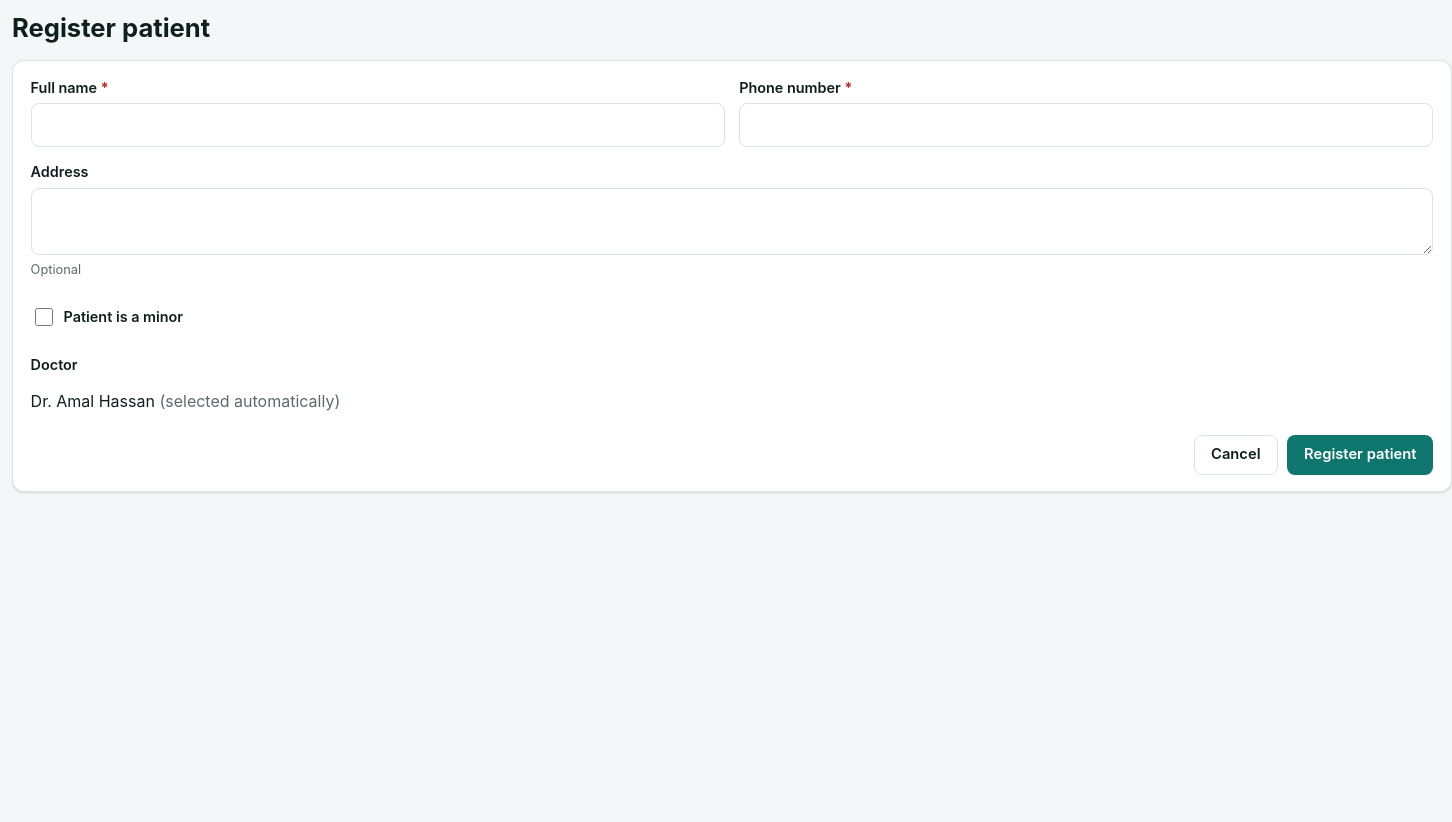
Test case: patient registration (PATIENT-001..003) › shows guardian fields only for a minor
Expected: the field labelled "Guardian name" is not shown
What coordinates should you click on to do the following:
click the checkbox labelled "Patient is a minor"
I would click on:
 (44, 317)
Its box is [35,297,53,337].
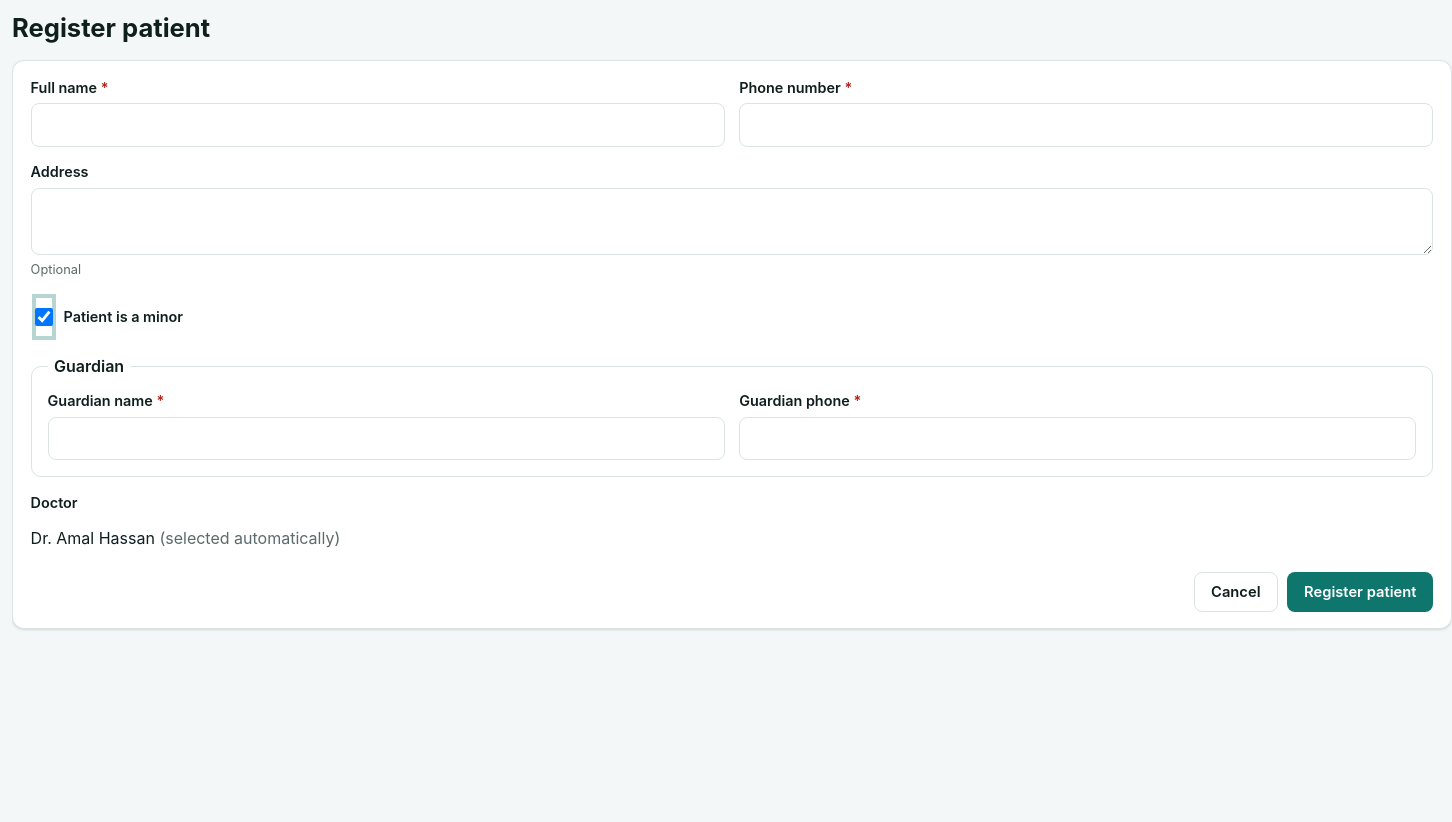
Expected: the field labelled "Guardian name *" is shown, [48,416,725,460]
Expected: the field labelled "Guardian phone *" is shown, [739,416,1416,460]
